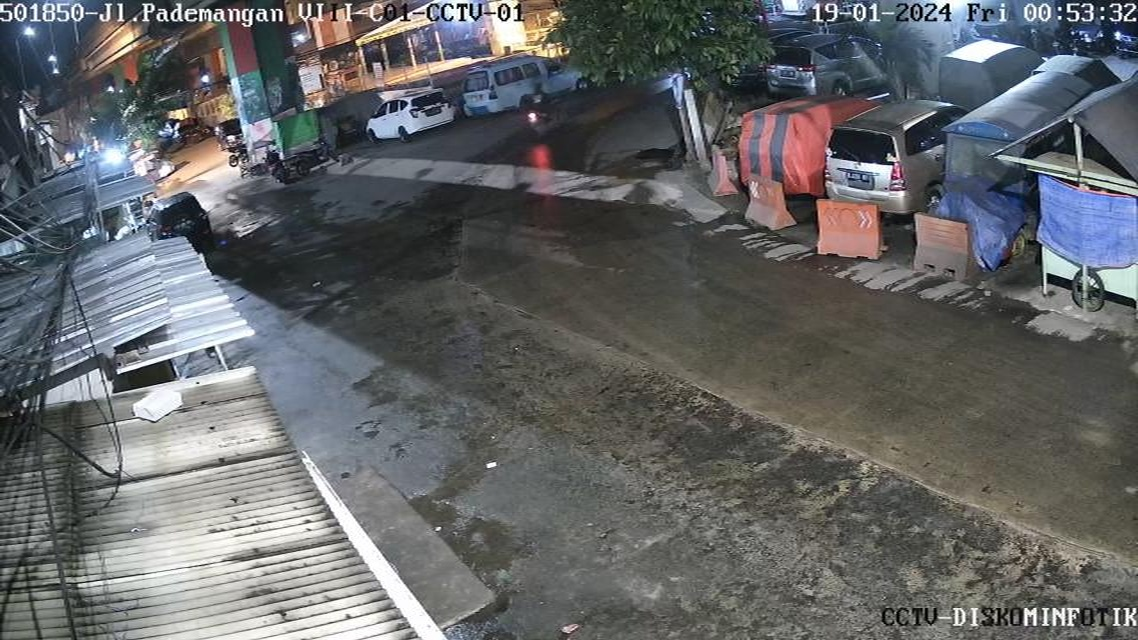Terpal: (1021, 165, 1138, 282), (729, 116, 820, 179)
